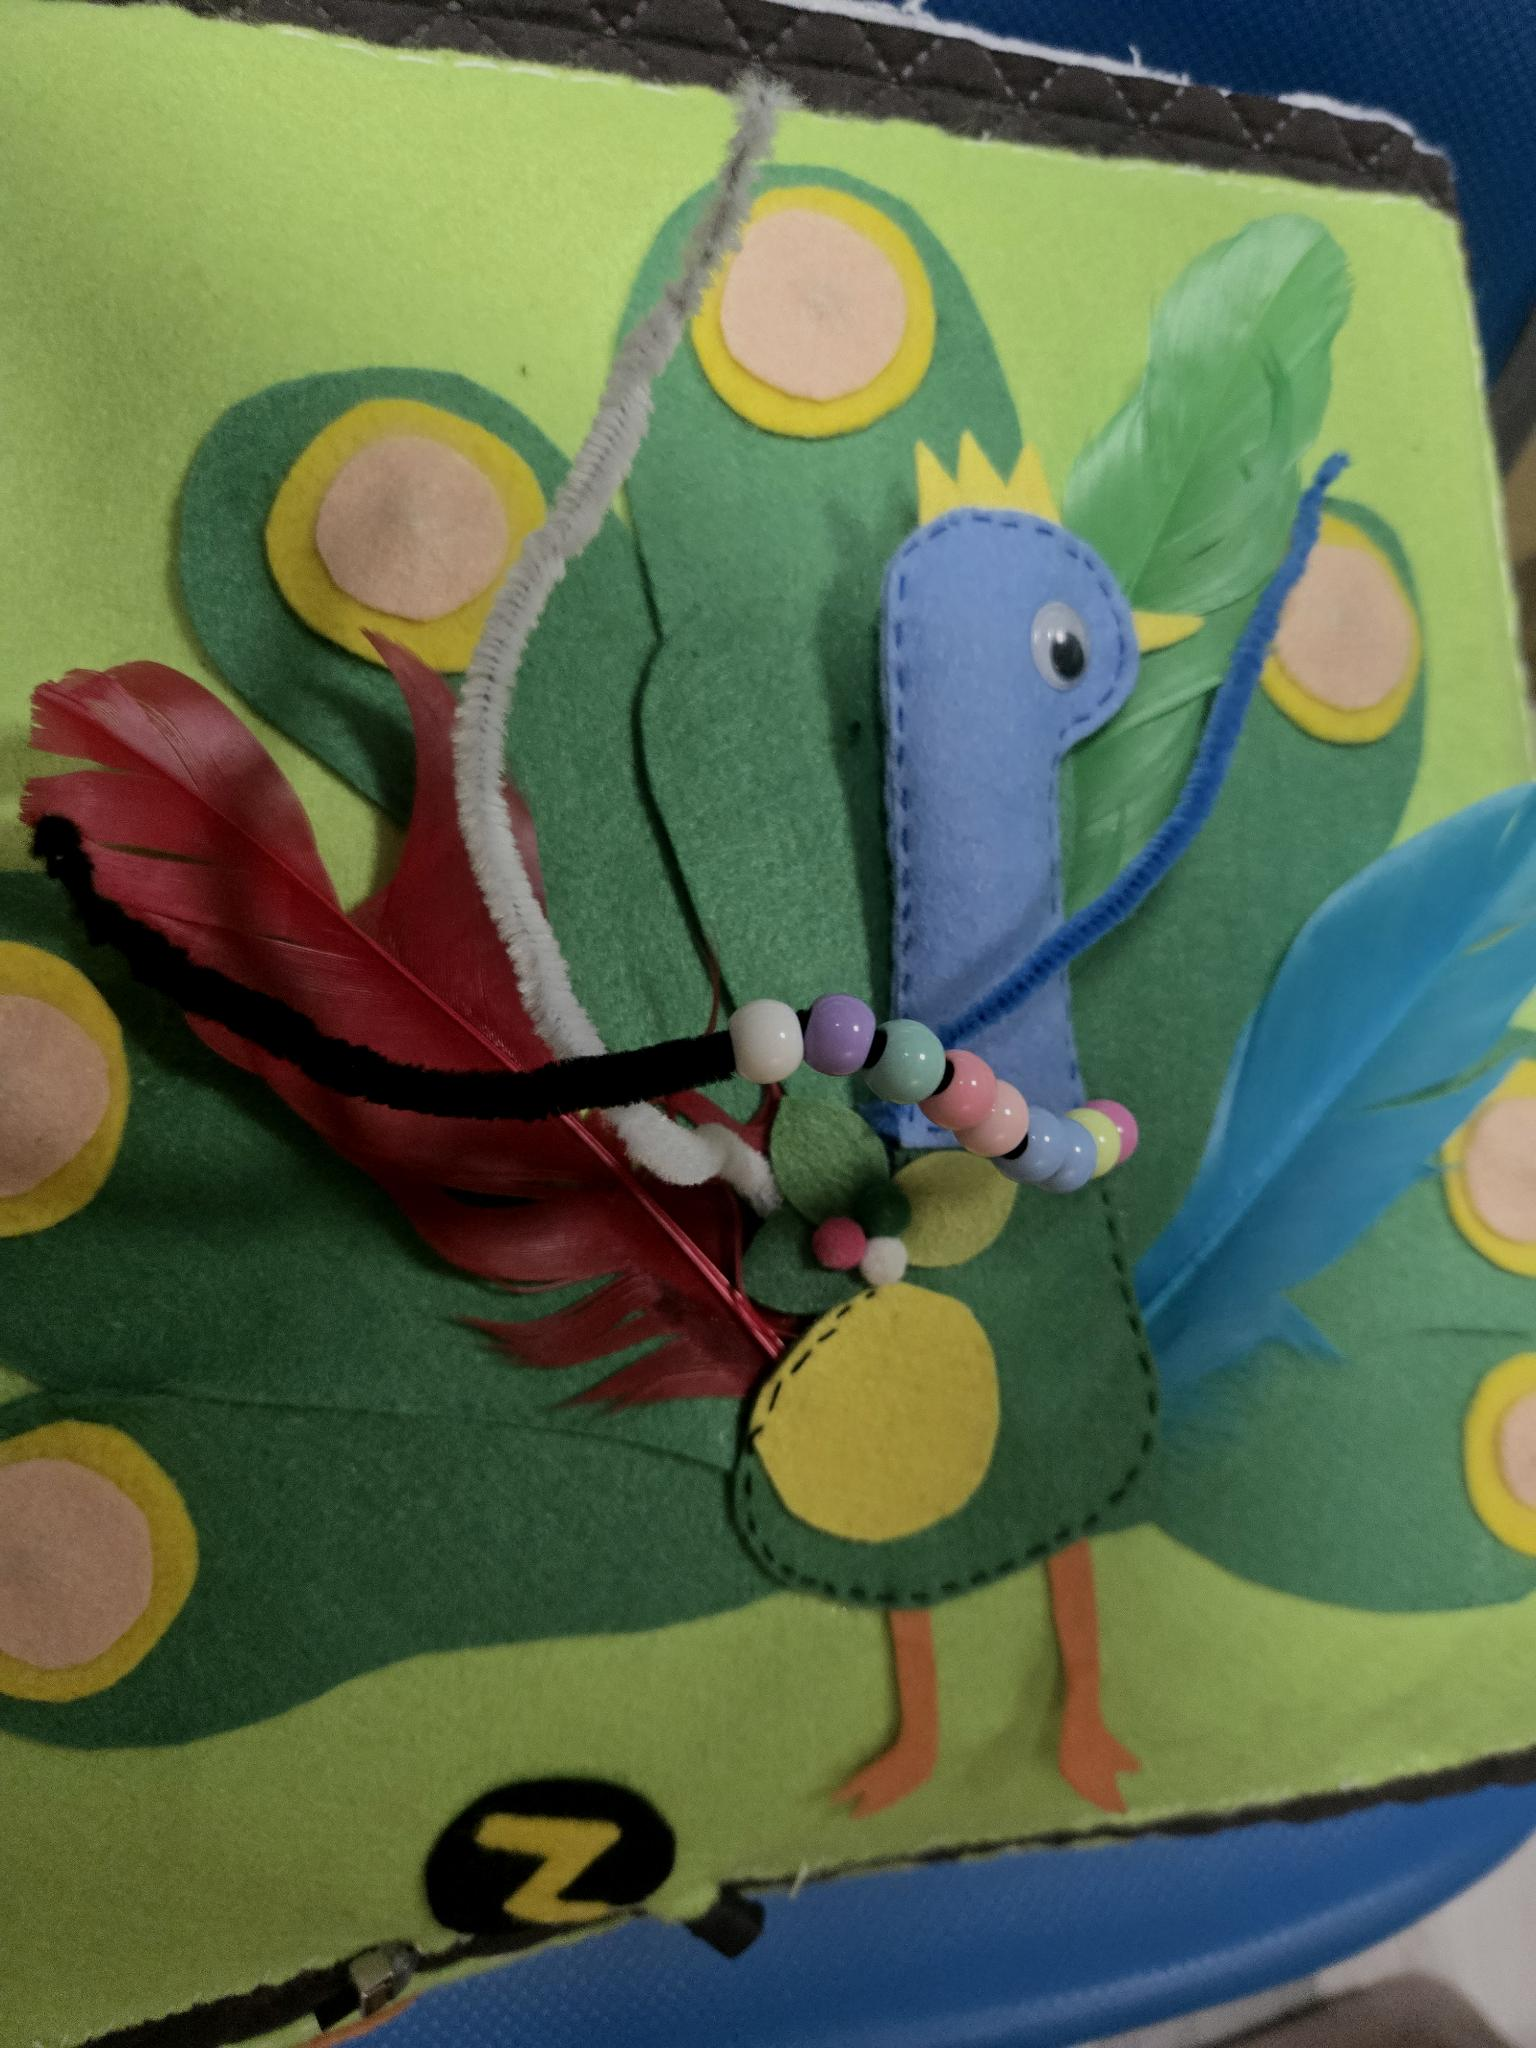bead: (728, 979, 808, 1092), (874, 1011, 952, 1095), (810, 985, 881, 1076), (978, 1071, 1039, 1164), (928, 1051, 999, 1132), (1100, 1082, 1152, 1164), (1058, 1132, 1115, 1206), (1028, 1103, 1065, 1185), (1087, 1106, 1120, 1172)
